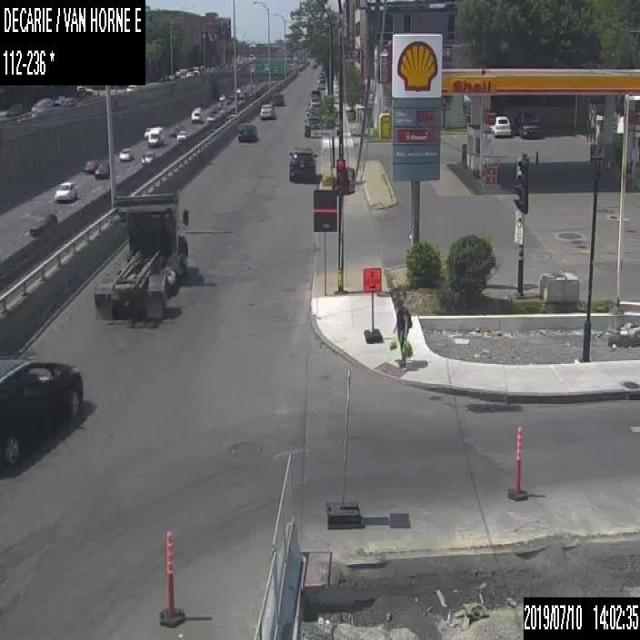construction: (254, 452, 639, 639), (157, 529, 185, 627), (503, 426, 526, 502), (361, 264, 382, 341)
pedestrian: (391, 298, 412, 366)
vehicle: (93, 192, 188, 320), (0, 355, 84, 469), (288, 145, 316, 183), (29, 211, 57, 236), (516, 111, 538, 138), (53, 179, 75, 201), (490, 115, 511, 136), (303, 116, 321, 137), (236, 123, 256, 140), (31, 96, 51, 113), (305, 96, 321, 116), (148, 126, 164, 146), (262, 92, 284, 106), (0, 102, 22, 115), (94, 160, 109, 179), (83, 158, 100, 174), (259, 103, 274, 118), (118, 147, 133, 161), (190, 105, 200, 121), (141, 151, 154, 163), (51, 94, 64, 105), (62, 96, 76, 106), (125, 84, 136, 93), (316, 77, 324, 89), (176, 129, 186, 138), (311, 89, 320, 98), (143, 127, 150, 138), (217, 92, 226, 100), (316, 71, 324, 79)
